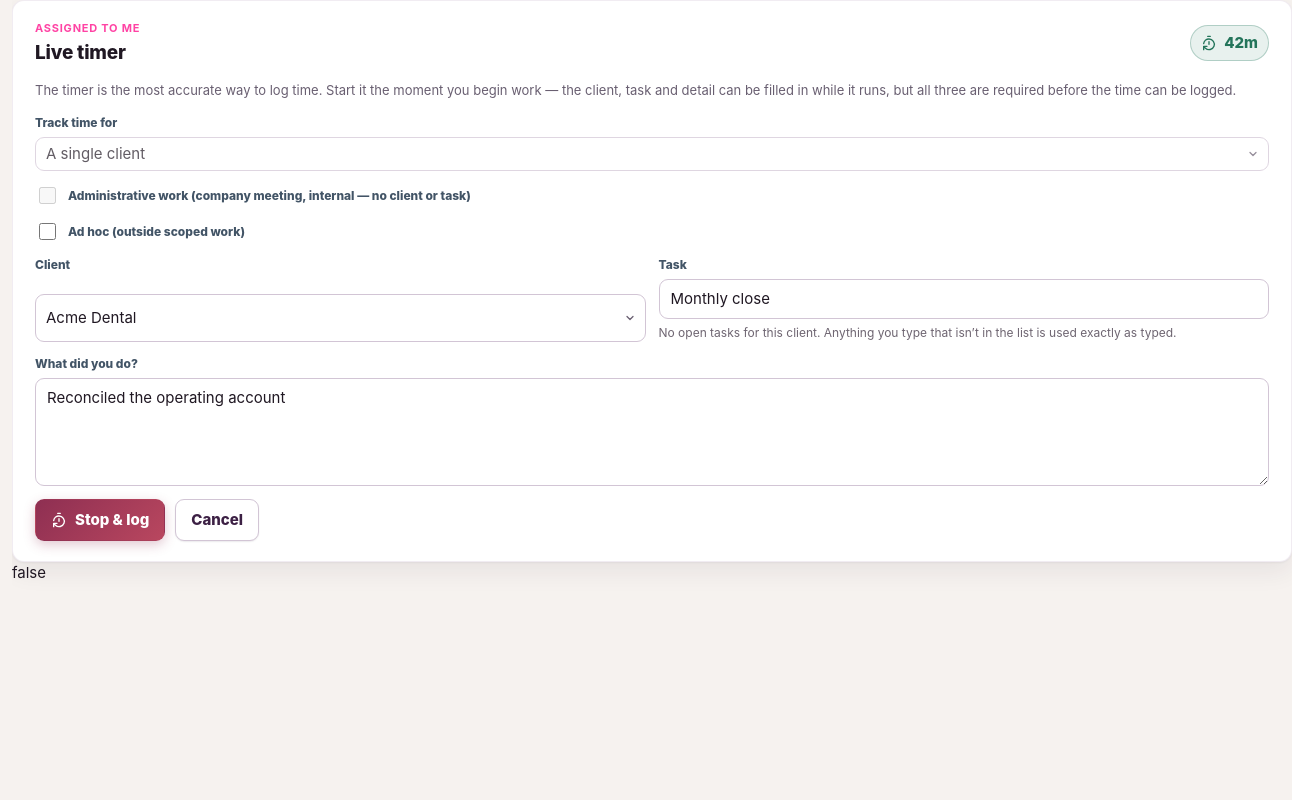
Test: the Ad hoc tick on the timer panel › patches the RUNNING timer when ticked mid-run
The image size is (1292, 800).
Click the checkbox labelled "Ad hoc (outside scoped work)": (48, 231) [39,223,56,240]
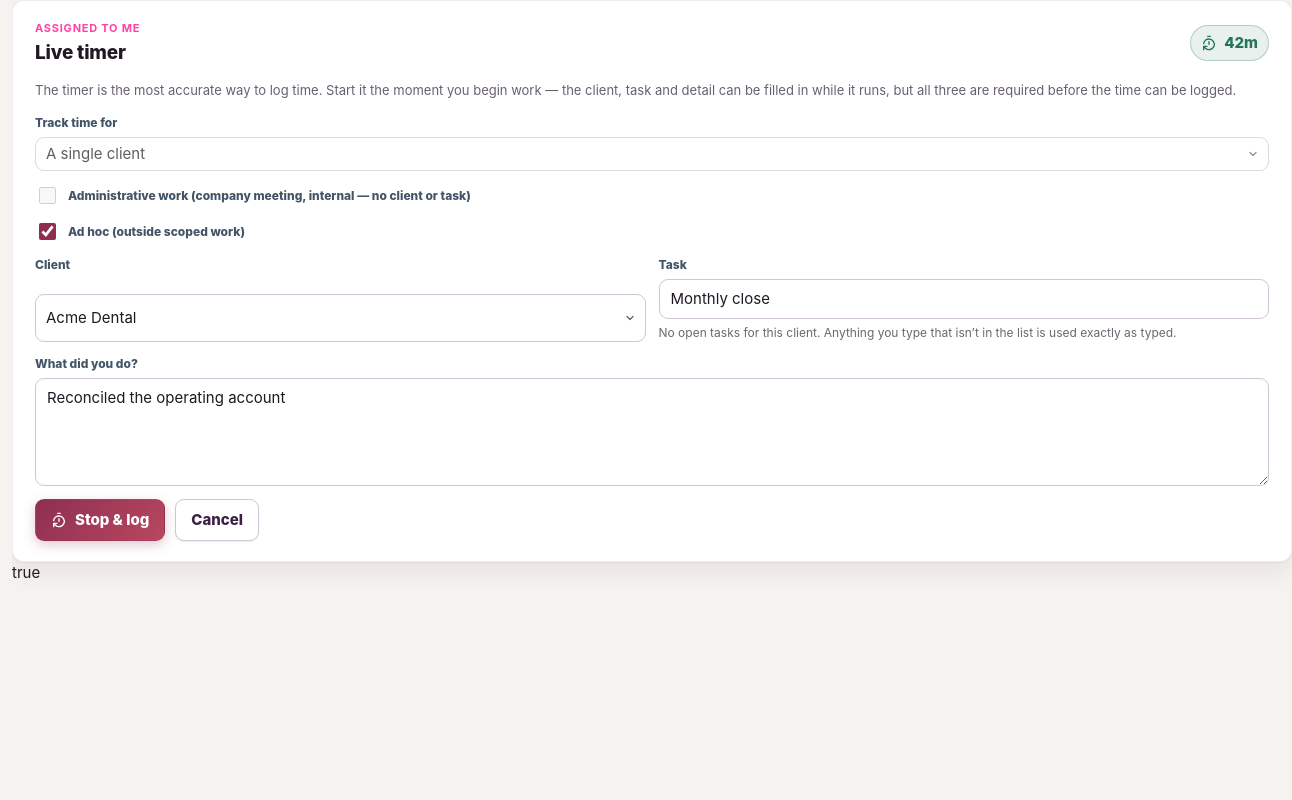
Now the checkbox labelled "Ad hoc (outside scoped work)" is checked, box [39,223,56,240]
Now the text with test id "timer-adhoc" reads "true", box [12,563,40,582]
